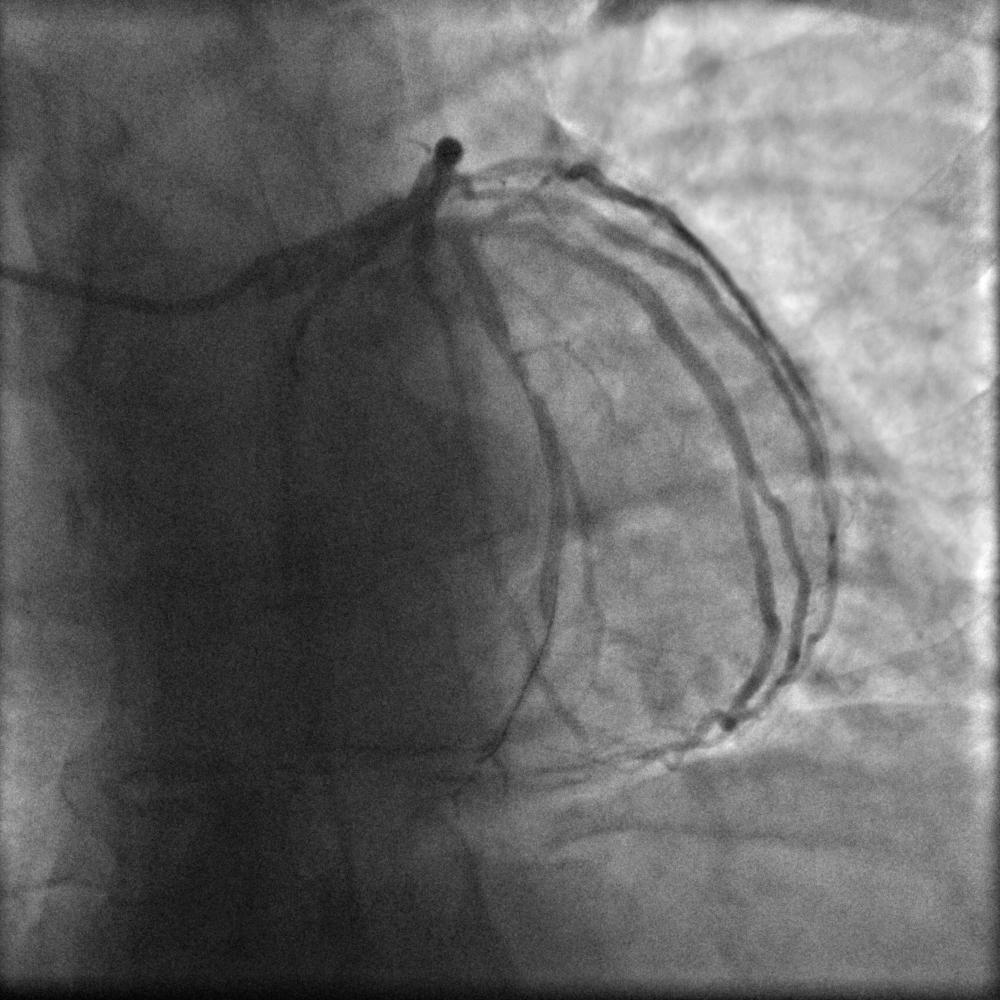Stenosis: (493, 326, 530, 400)
